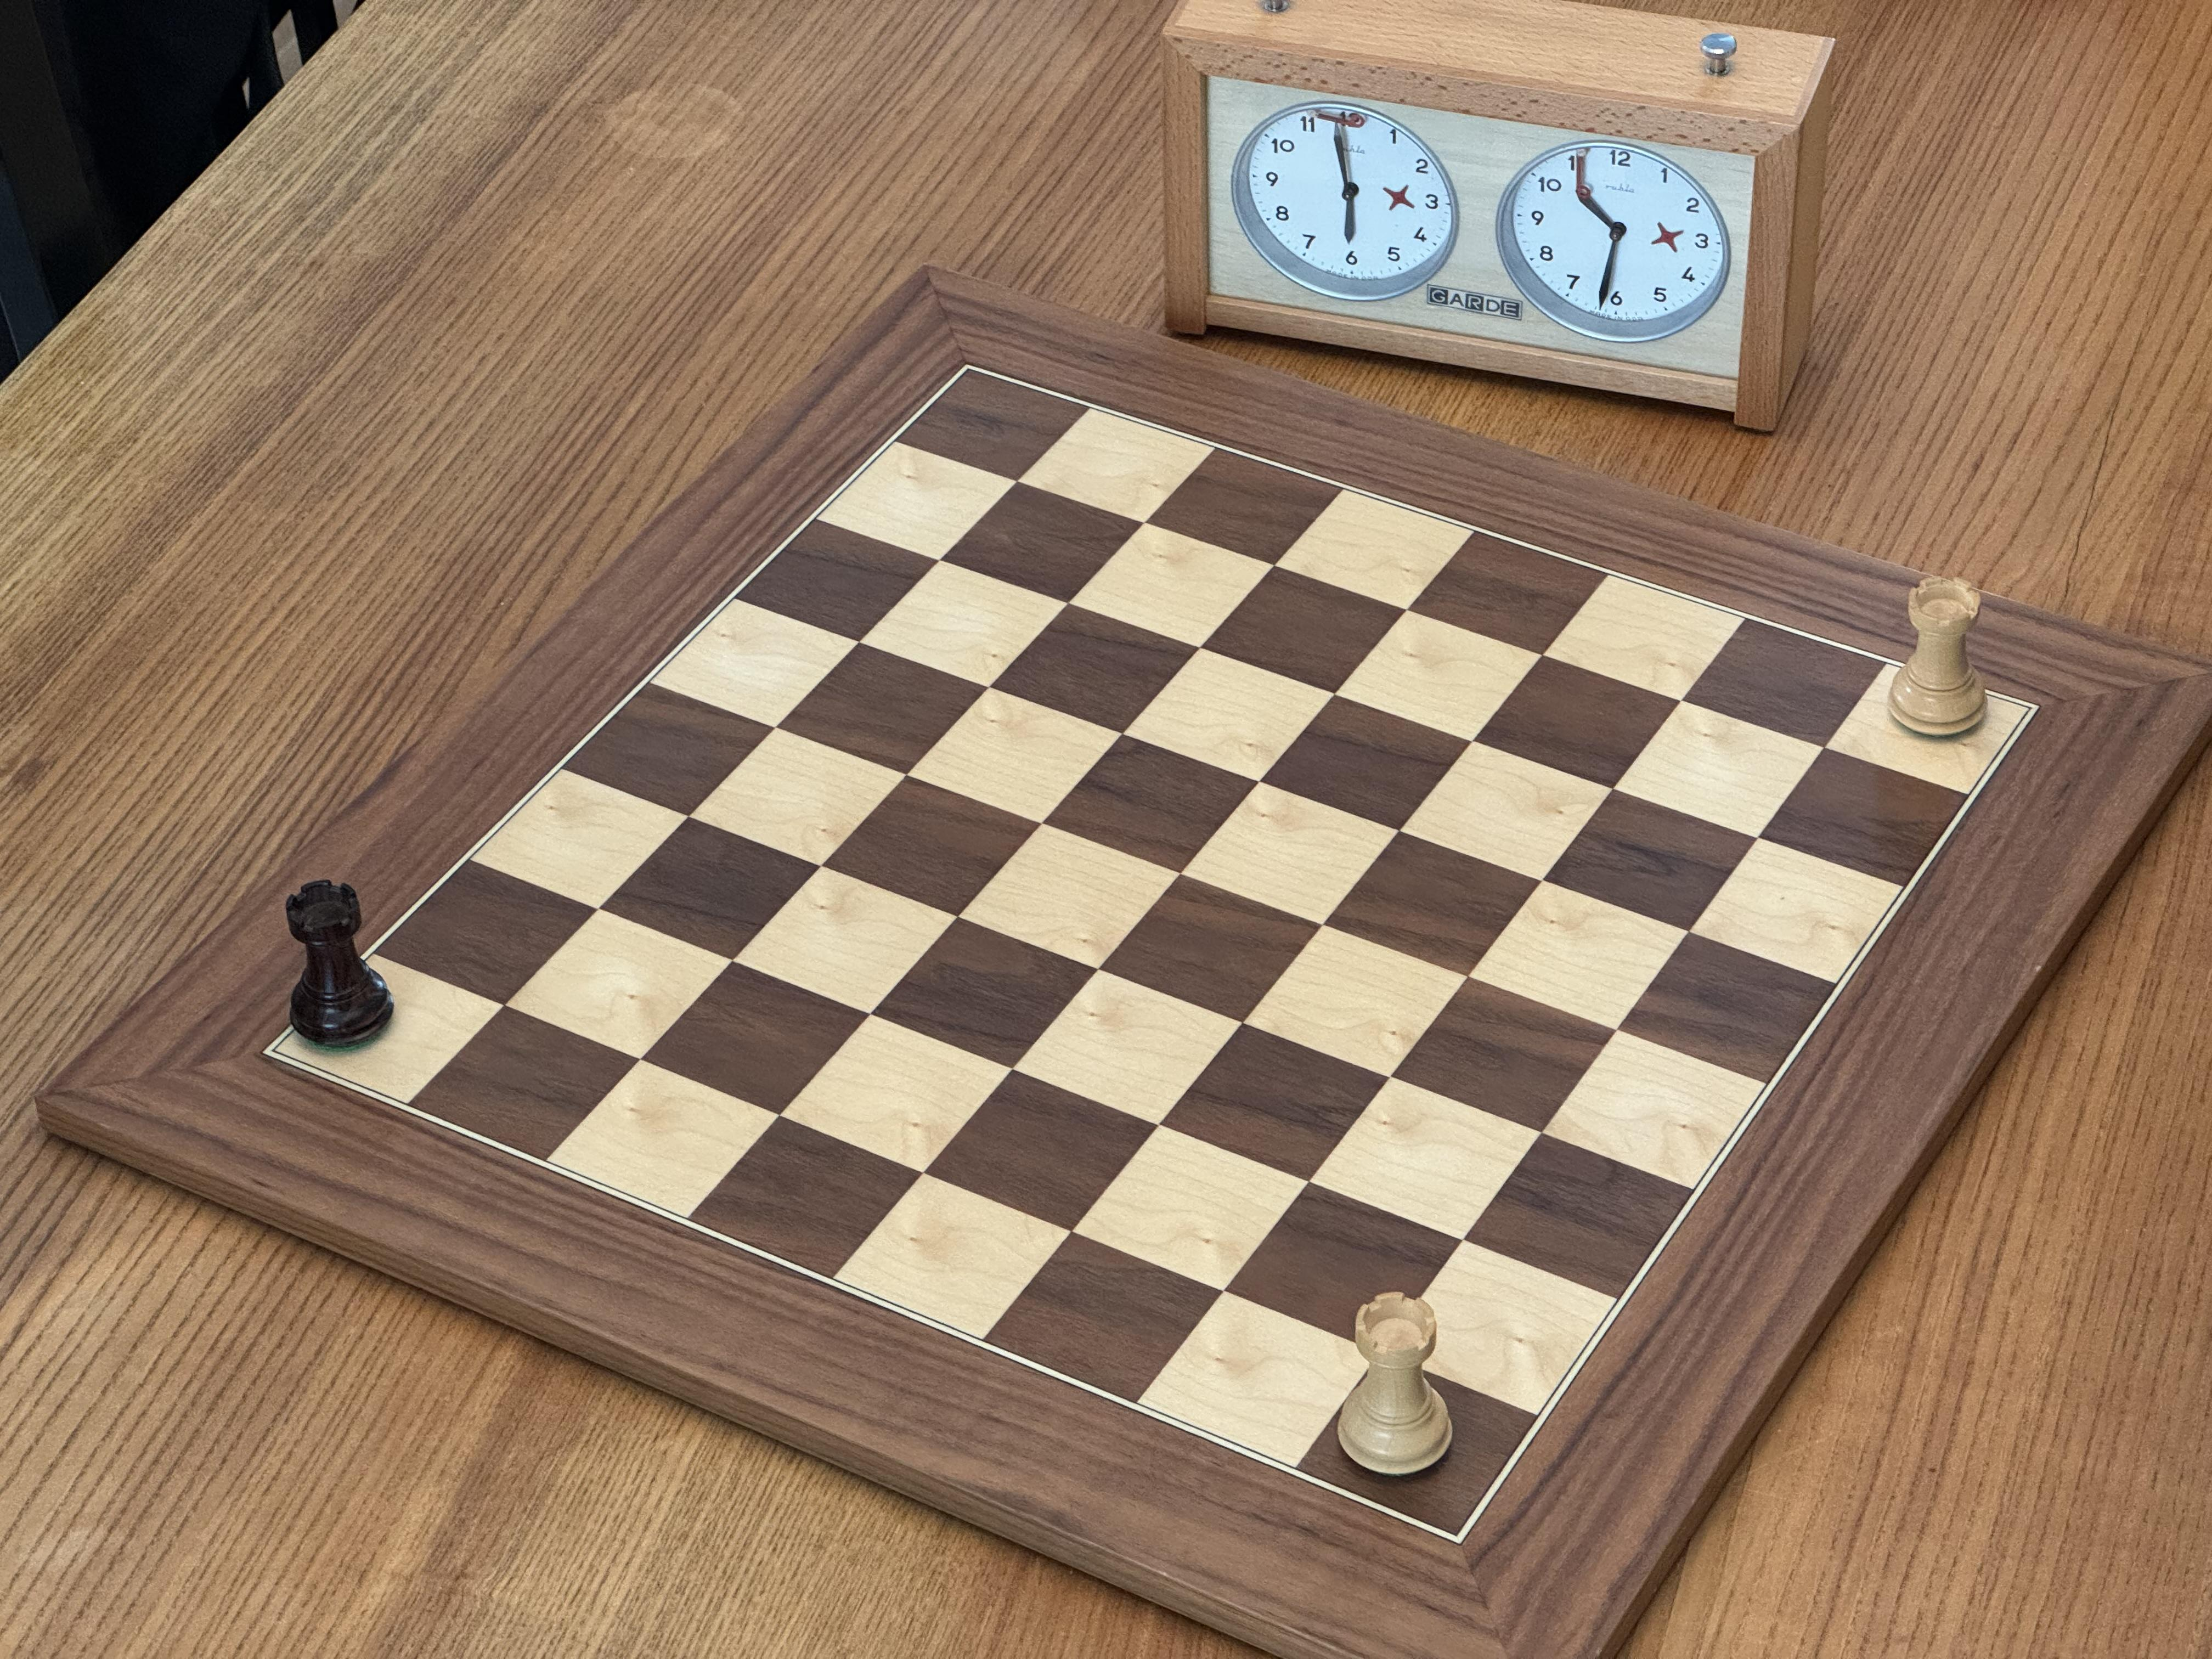corner A: (179, 967, 348, 1134)
corner B: (1371, 1448, 1559, 1633)
corner C: (1952, 624, 2116, 793)
